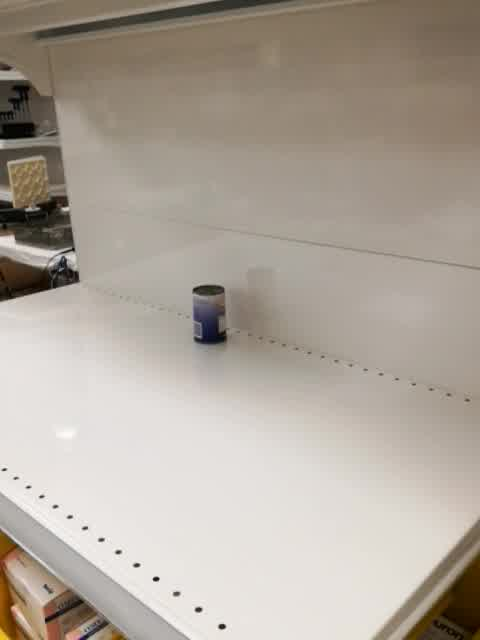sardine: (191, 284, 228, 346)
